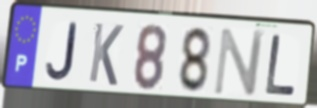8: (177, 25, 214, 95), (133, 22, 170, 92)
J: (43, 20, 79, 83)
K: (86, 20, 126, 89)
L: (263, 33, 299, 98)
N: (211, 27, 267, 97)
